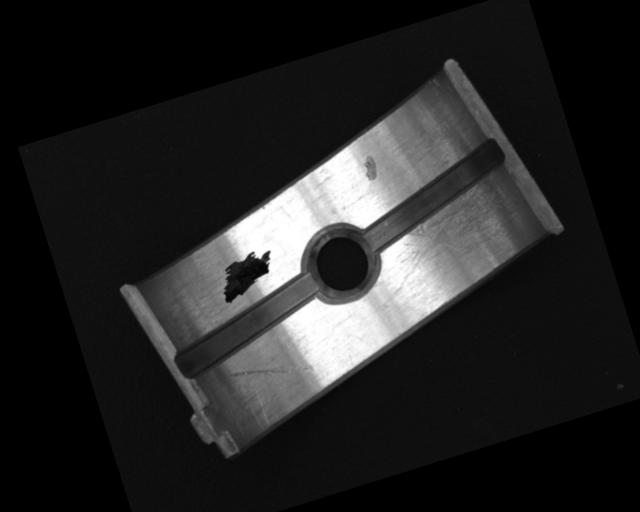blot: (213, 245, 283, 306)
bruise: (359, 153, 380, 182)
gap: (346, 136, 521, 257), (161, 268, 334, 381)
hole: (297, 217, 389, 309)
nick: (227, 348, 314, 396)
scratch: (370, 169, 534, 294)
